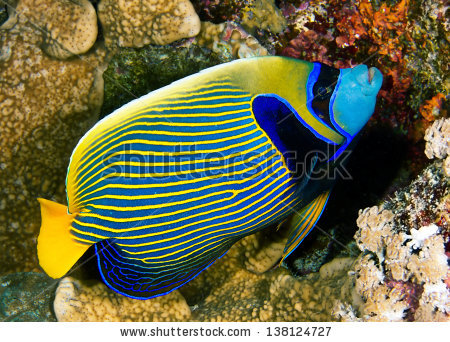Pomacanthus_imperator: (40, 34, 387, 311)
